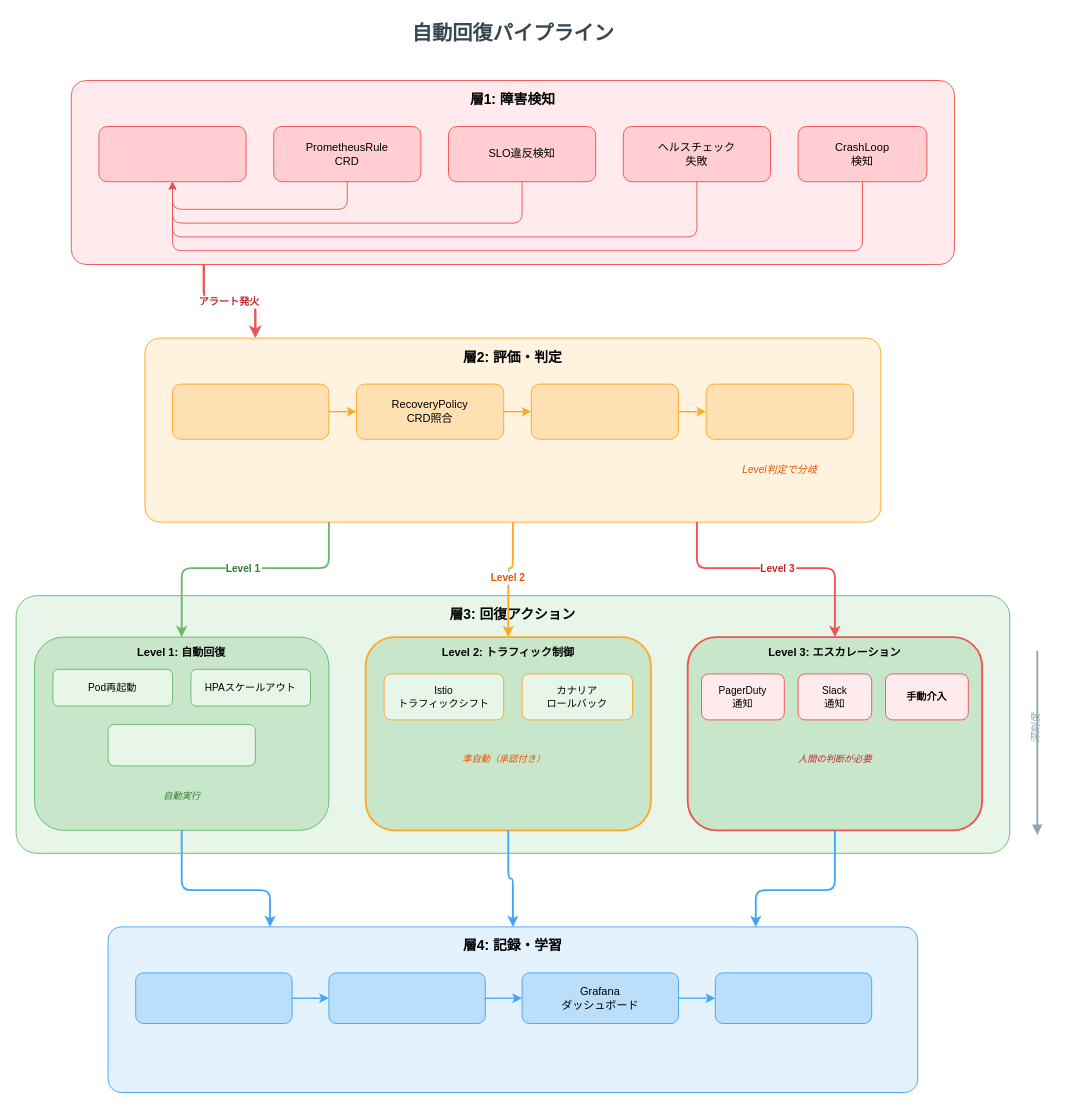
The diagram is 1067 pixels wide and 1109 high, and some of its shapes have lost their labels. Here are the shapes that lost their labels. From the top down, the centre of each, then its label:
(172,154): Prometheus Alertmanager
(250,411): Recovery Operator (Rust)
(604,411): Blast Radius 評価
(779,411): エスカレーション レベル判定
(181,745): Circuit Breaker 活性化
(213,998): RecoveryHistory CRD
(406,998): Kafka 監査イベント
(793,998): MTTD / MTTR 計測
